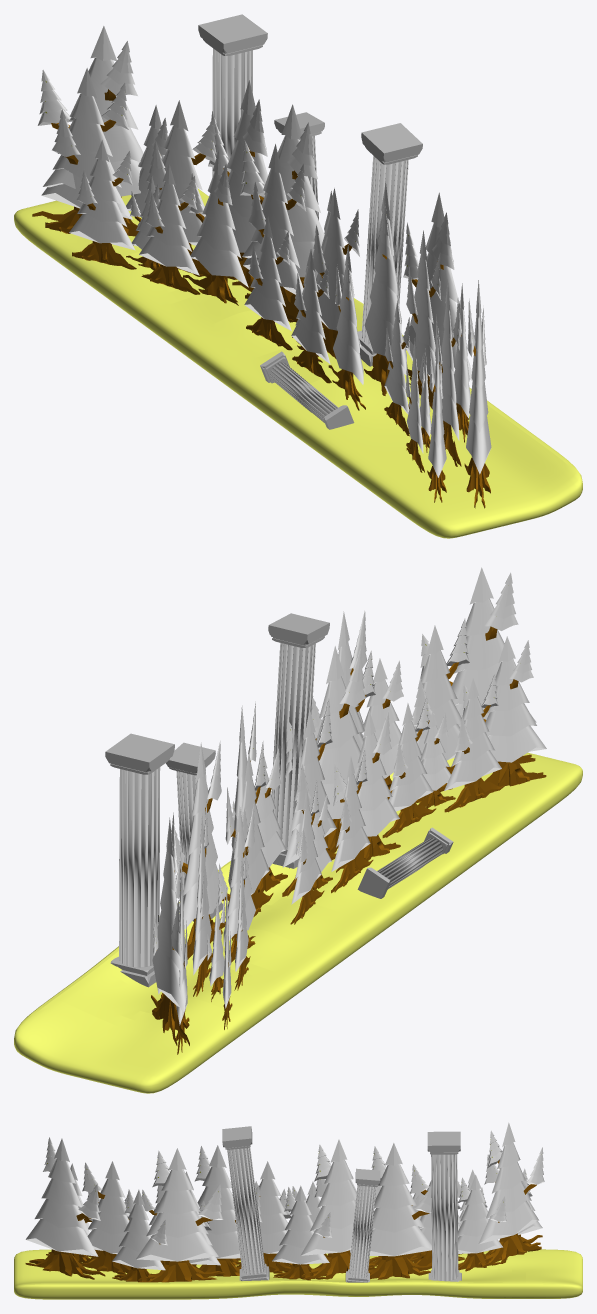
The model's file is Arbol FondoJefe.fbx.
The picture shows the model from 3 angles, top to bottom: view 1: azimuth 30°, elevation 25°; view 2: azimuth 150°, elevation 25°; view 3: azimuth 270°, elevation 25°; orthographic projection. The views are drawn at different scales.
Parts seen in each view (by area): view 1: Cube.005, Cylinder.027, Cube.001, Cylinder.025, Cylinder.009, Cube.003, Cylinder.021, Cylinder.020, Cylinder.019, Cylinder.024, Cylinder.007, Cylinder.023 (+18 smaller); view 2: Cube.005, Cube.003, Cube.001, Cylinder.011, Cylinder.015, Cylinder.006, Cylinder.027, Cylinder.024, Cylinder.010, Cylinder.014, Cylinder.002, Cylinder.012 (+19 smaller); view 3: Cube.005, Cylinder.018, Cylinder.015, Cylinder.024, Cylinder.027, Cylinder.009, Cube.003, Cube.001, Cylinder.006, Cylinder.014, Cylinder.008, Cylinder.026 (+10 smaller).
Boxes of the visible parts, x1=… form: Cube.005: x1=14, y1=188, x2=582, y2=538; Cylinder.027: x1=32, y1=26, x2=143, y2=236; Cube.001: x1=357, y1=123, x2=422, y2=366; Cylinder.025: x1=41, y1=68, x2=133, y2=245; Cylinder.009: x1=232, y1=104, x2=324, y2=312; Cube.003: x1=198, y1=14, x2=267, y2=177; Cylinder.021: x1=69, y1=140, x2=136, y2=269; Cylinder.020: x1=183, y1=150, x2=248, y2=305; Cylinder.019: x1=139, y1=163, x2=200, y2=294; Cylinder.024: x1=208, y1=80, x2=267, y2=285; Cylinder.007: x1=243, y1=144, x2=306, y2=322; Cylinder.023: x1=137, y1=100, x2=216, y2=276; Cube.005: x1=14, y1=752, x2=582, y2=1093; Cube.003: x1=105, y1=733, x2=174, y2=987; Cube.001: x1=268, y1=613, x2=329, y2=868; Cylinder.011: x1=462, y1=636, x2=546, y2=786; Cylinder.015: x1=420, y1=567, x2=536, y2=768; Cylinder.006: x1=285, y1=646, x2=365, y2=868; Cylinder.027: x1=151, y1=812, x2=189, y2=1045; Cylinder.024: x1=174, y1=740, x2=225, y2=959; Cylinder.010: x1=444, y1=673, x2=505, y2=812; Cylinder.014: x1=412, y1=618, x2=469, y2=802; Cylinder.002: x1=333, y1=710, x2=400, y2=872; Cylinder.012: x1=382, y1=696, x2=436, y2=837; Cube.005: x1=14, y1=1249, x2=582, y2=1299; Cylinder.018: x1=136, y1=1148, x2=225, y2=1282; Cylinder.015: x1=25, y1=1137, x2=105, y2=1279; Cylinder.024: x1=368, y1=1143, x2=431, y2=1279; Cylinder.027: x1=478, y1=1122, x2=544, y2=1267; Cylinder.009: x1=300, y1=1139, x2=381, y2=1279; Cube.003: x1=427, y1=1131, x2=461, y2=1281; Cube.001: x1=222, y1=1126, x2=269, y2=1280; Cylinder.006: x1=194, y1=1145, x2=261, y2=1276; Cylinder.014: x1=78, y1=1161, x2=131, y2=1274; Cylinder.008: x1=272, y1=1185, x2=334, y2=1280; Cylinder.026: x1=458, y1=1174, x2=507, y2=1271.
Bounding box in the file's own units: 1596 × 2528 × 7812.
